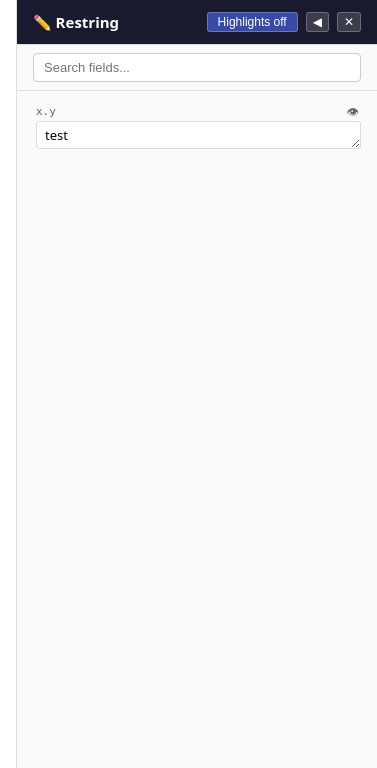
Scenario: RestringSidebar › toggles highlight mode
The width and height of the screenshot is (377, 768).
Click the button with aria-label "Turn off highlights" at (252, 22), box top-left (206, 12), bottom-right (298, 32)
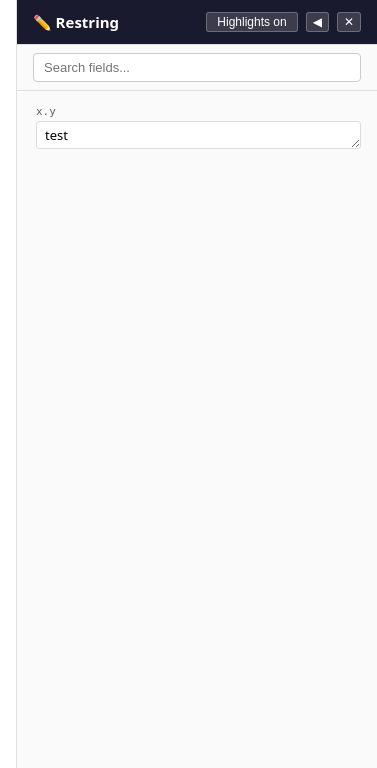
Result: the button with aria-label "Turn on highlights" reads "Highlights on" at top-left (206, 12), bottom-right (298, 32)
